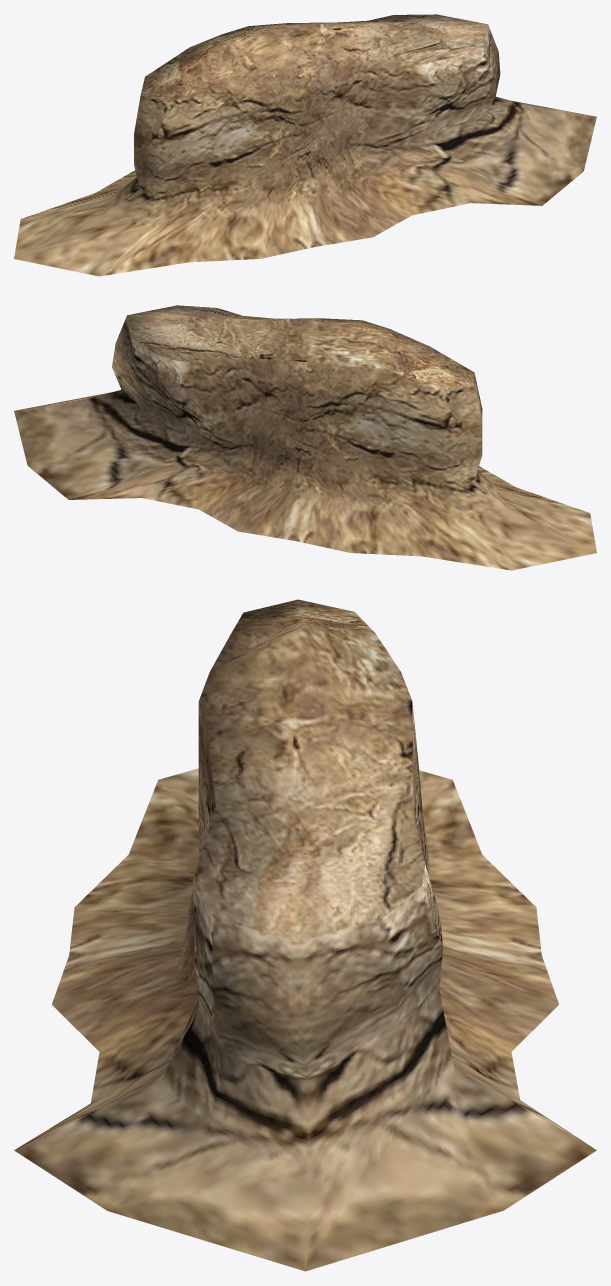
Rendered from des_rock_formationA.fbx.
The picture shows the model from 3 angles, top to bottom: view 1: azimuth 30°, elevation 25°; view 2: azimuth 150°, elevation 25°; view 3: azimuth 270°, elevation 25°; orthographic projection. The views are drawn at different scales.
Parts seen in each view (by area): view 1: rock2; view 2: rock2; view 3: rock2.
Part boxes in pixels (x1,y1,x2,y2): rock2: (14,14,596,276); rock2: (14,305,596,570); rock2: (14,599,596,1271).
Size of the model in its own units: 2335 by 633 by 1078.
Materials: 1 (1 with a texture image).
